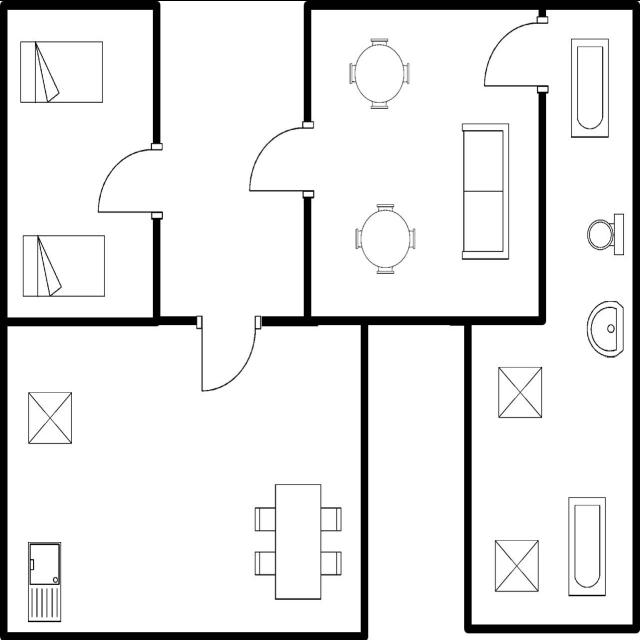bed: (15, 32, 109, 108), (19, 228, 110, 302)
coffee_table: (21, 384, 76, 450), (492, 361, 546, 424), (489, 536, 542, 598)
dining_table: (249, 476, 346, 605)
large_sink: (583, 208, 629, 262)
large_sofa: (456, 118, 514, 270)
round_table: (344, 31, 413, 117), (351, 199, 419, 281)
sink: (24, 533, 64, 627)
small_sink: (582, 296, 626, 365)
tub: (564, 32, 614, 144), (564, 490, 610, 600)
